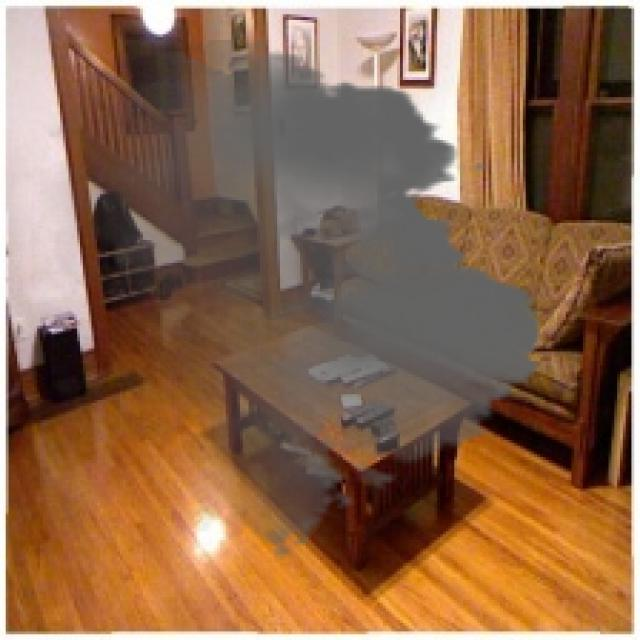smoke: (31, 40, 560, 560)
